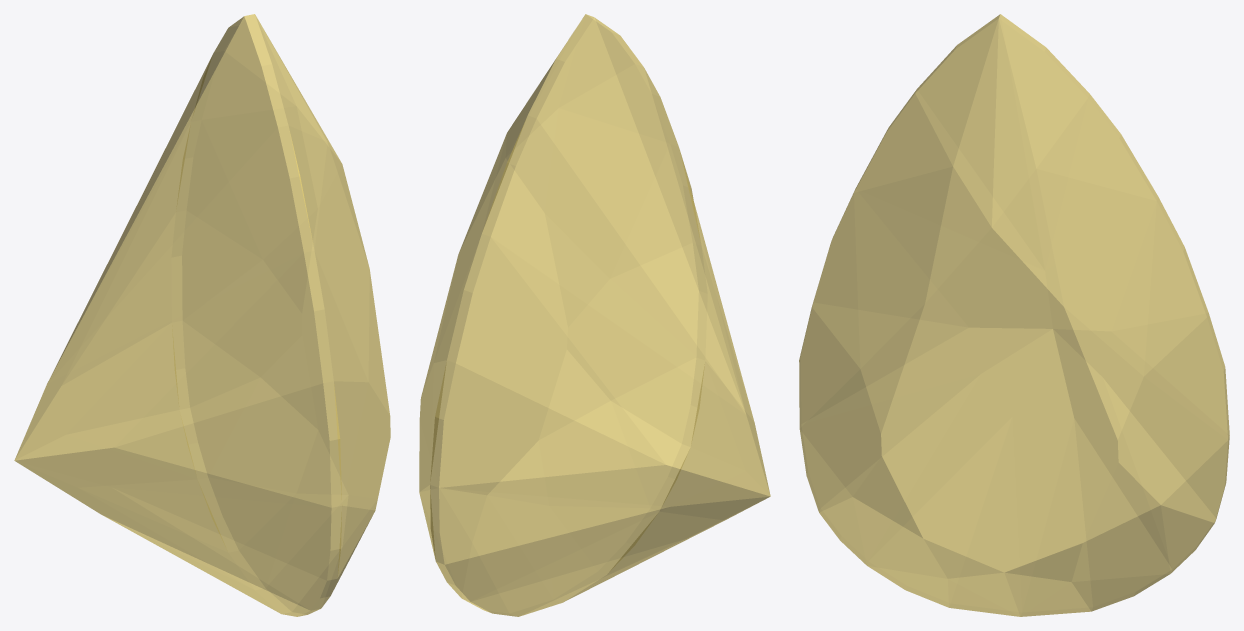
Rendered from pear saphire jaune.glb.
The picture shows the model from 3 angles, left to right: view 1: azimuth 30°, elevation 25°; view 2: azimuth 150°, elevation 25°; view 3: azimuth 270°, elevation 25°; orthographic projection.
Parts seen in each view (by area): view 1: Pear (tear); view 2: Pear (tear); view 3: Pear (tear).
Part boxes in pixels (left/top/right/bottom): Pear (tear): left=14, top=14, right=390, bottom=616; Pear (tear): left=419, top=14, right=770, bottom=616; Pear (tear): left=799, top=14, right=1229, bottom=616.
Bounding box in the file's own units: 1.19 × 2.09 × 1.39.
